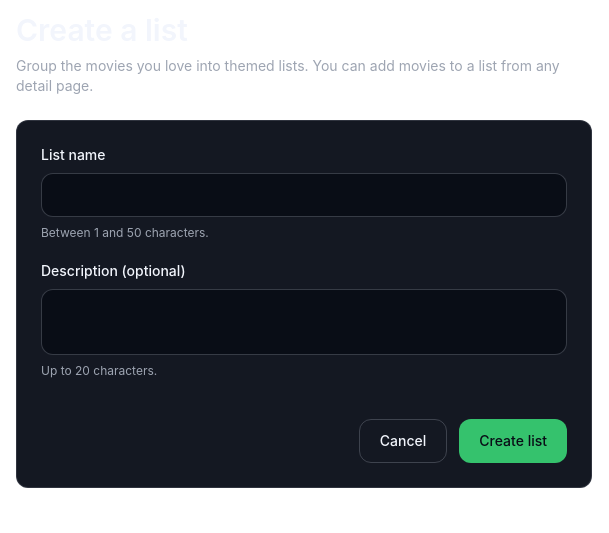
it: ListCreatePage › shows the Spanish validation error when the name is empty and does not navigate
Click the button "Create list" at coordinates (513, 441), box [459,419,567,463]
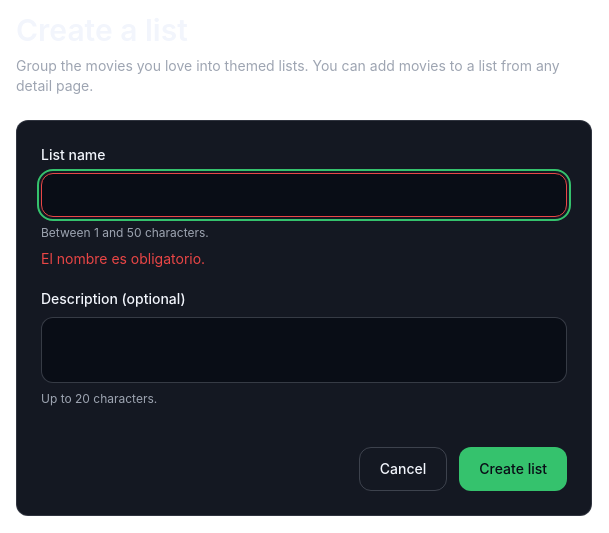
Result: the message shows "El nombre es obligatorio" at [41,250,205,267]
